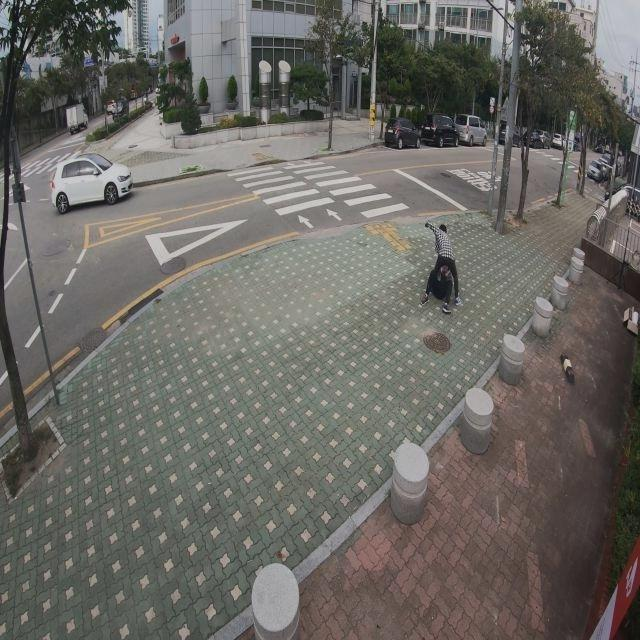fight: (424, 220, 462, 313)
